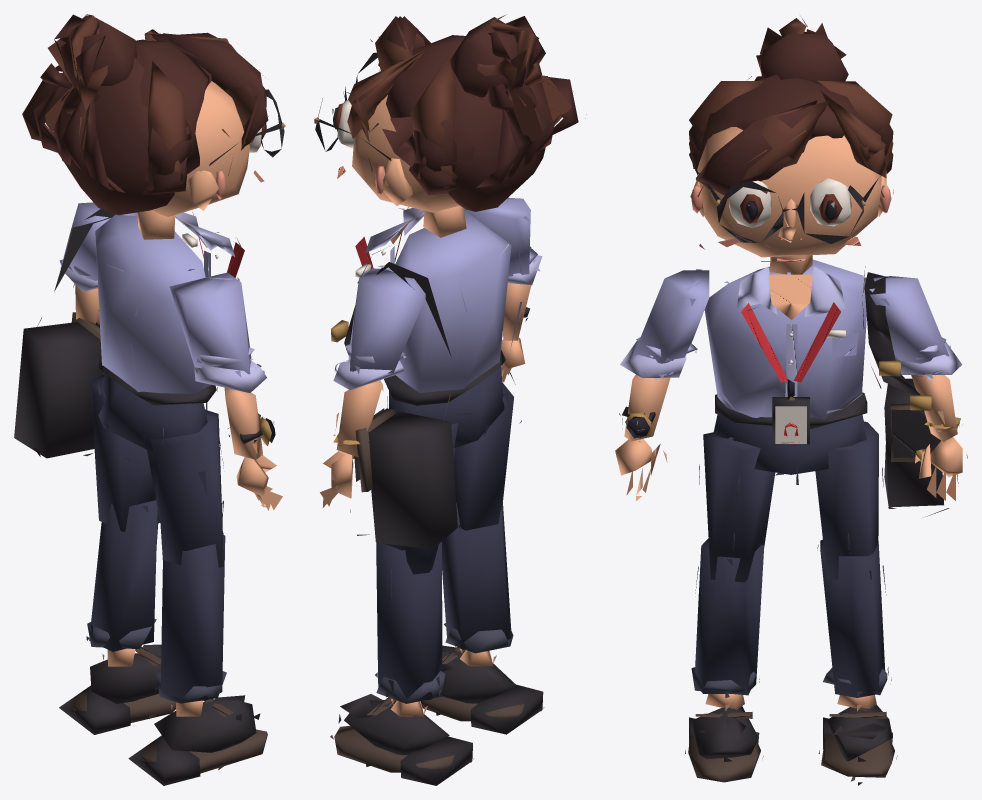
The picture shows the model from 3 angles, left to right: view 1: azimuth 30°, elevation 25°; view 2: azimuth 150°, elevation 25°; view 3: azimuth 270°, elevation 25°; orthographic projection. The views are drawn at different scales.
Parts seen in each view (by area): view 1: head, torso, shinR, shinL, legR, footR, footL, armR, hip, legL, foreArmR, armL (+2 smaller); view 2: head, torso, shinL, footL, shinR, footR, armL, legR, hip, foreArmL, armR, foreArmR (+3 smaller); view 3: head, torso, shinR, shinL, legR, legL, hip, footR, footL, armR, armL, foreArmR (+3 smaller).
Part boxes in pixels (box(x1,y1,x2,y2)): head: box(22, 14, 285, 239); torso: box(14, 209, 244, 458); shinR: box(155, 533, 226, 703); shinL: box(86, 500, 158, 651); legR: box(142, 409, 223, 567); footR: box(128, 695, 267, 785); footL: box(59, 644, 175, 734); armR: box(169, 269, 254, 377); hip: box(87, 353, 229, 460); legL: box(90, 374, 160, 531); foreArmR: box(194, 359, 275, 459); armL: box(60, 202, 137, 280); head: box(314, 14, 586, 237); torso: box(331, 207, 522, 549); shinL: box(375, 542, 445, 703); footL: box(330, 694, 473, 785); shinR: box(442, 503, 513, 653); footR: box(420, 645, 544, 734); armL: box(345, 265, 425, 374); legR: box(453, 382, 513, 530); hip: box(384, 350, 521, 448); foreArmL: box(333, 359, 404, 456); armR: box(464, 197, 537, 276); foreArmR: box(502, 255, 542, 340); head: box(689, 17, 893, 274); torso: box(704, 259, 958, 516); shinR: box(691, 538, 764, 697); shinL: box(817, 539, 891, 697); legR: box(699, 432, 775, 582); legL: box(815, 421, 883, 579); hip: box(713, 392, 867, 484); footR: box(685, 694, 763, 782); footL: box(818, 695, 897, 785); armR: box(633, 269, 728, 363); armL: box(864, 276, 951, 363); foreArmR: box(619, 341, 696, 442).
Size of the model in its own units: 0.5419 by 1.8 by 0.8096.
